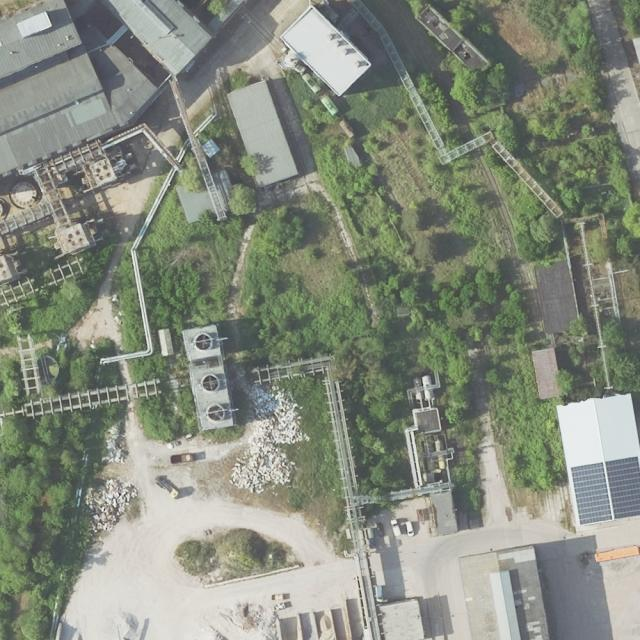PV: (571, 461, 613, 525), (605, 455, 640, 520)
